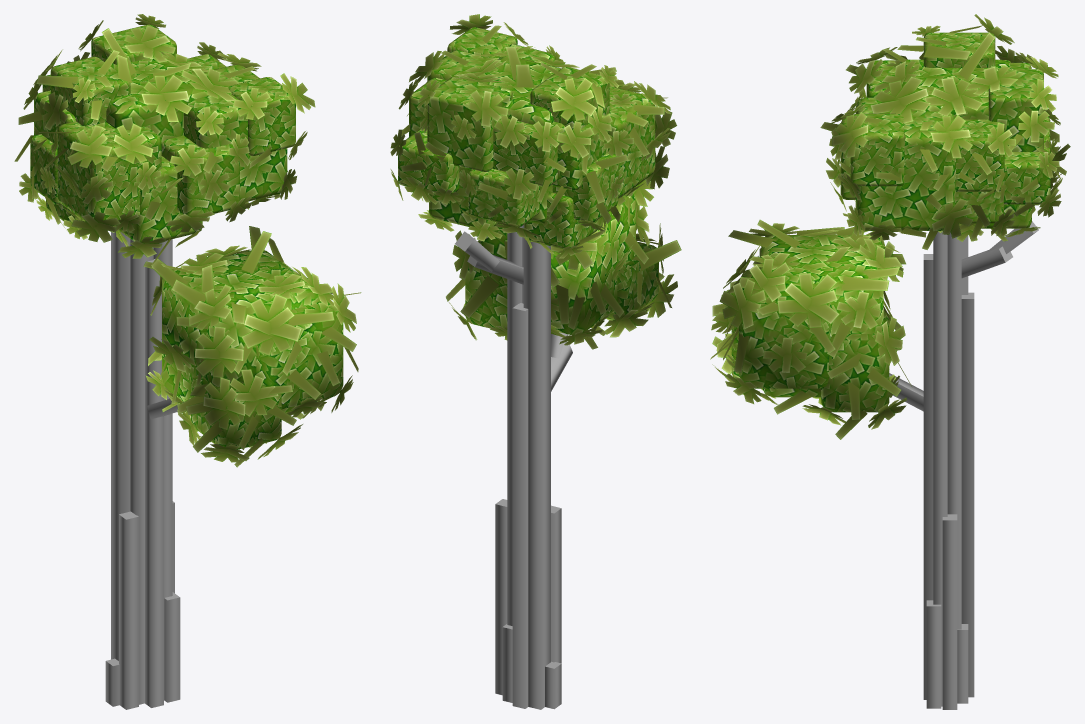
File: SM_Tree_01_C.fbx
3 views of the same model, side by side, from view 1: azimuth 30°, elevation 25°; view 2: azimuth 150°, elevation 25°; view 3: azimuth 270°, elevation 25° (orthographic).
Parts seen in each view (by area): view 1: polySurface608; view 2: polySurface608; view 3: polySurface608.
Boxes of the visible parts, x1,y1,x2,y2 form: polySurface608: [14, 14, 361, 709]; polySurface608: [390, 14, 681, 709]; polySurface608: [710, 14, 1070, 709].
Size of the model in its own units: 153 by 403 by 202.
